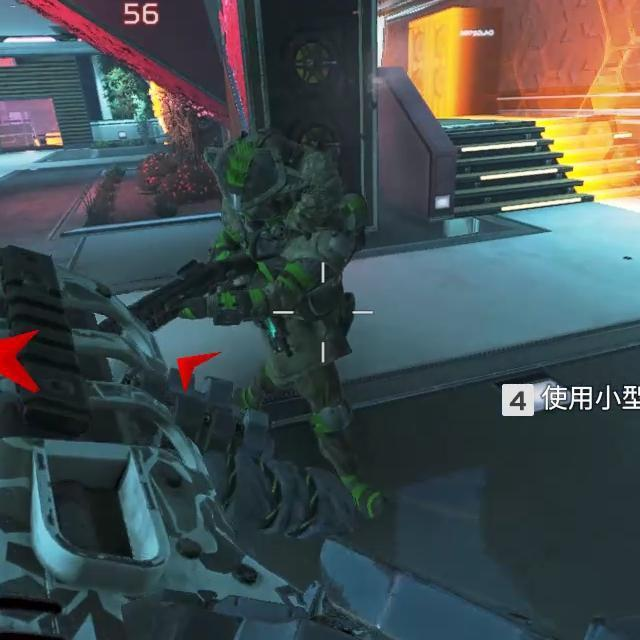avatar: (201, 125, 394, 527)
